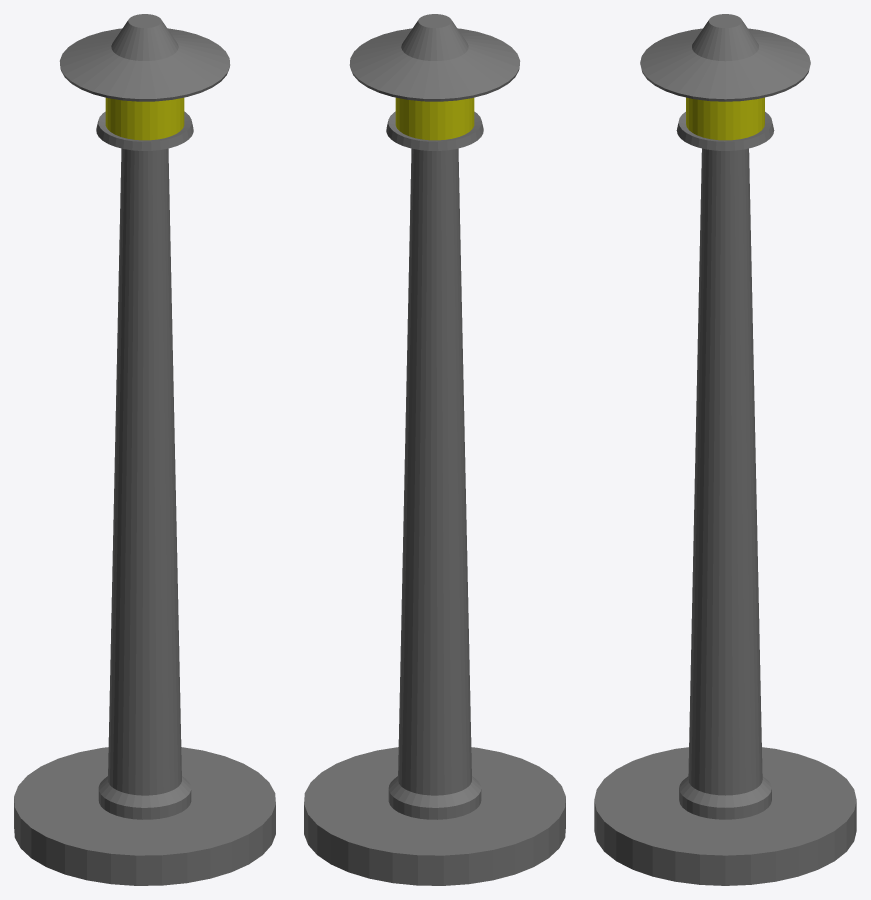
The model's file is Lamp3.obj.
3 renders of one model, left to right at view 1: azimuth 30°, elevation 25°; view 2: azimuth 150°, elevation 25°; view 3: azimuth 270°, elevation 25°, orthographic.
Parts seen in each view (by area): view 1: Cylinder; view 2: Cylinder; view 3: Cylinder.
Boxes of the visible parts, bbox=[...] form: Cylinder: bbox=[14, 14, 275, 885]; Cylinder: bbox=[304, 14, 565, 885]; Cylinder: bbox=[594, 14, 856, 885].
Size of the model in its own units: 2 by 6.8 by 2.
1 material, 1 textured.
